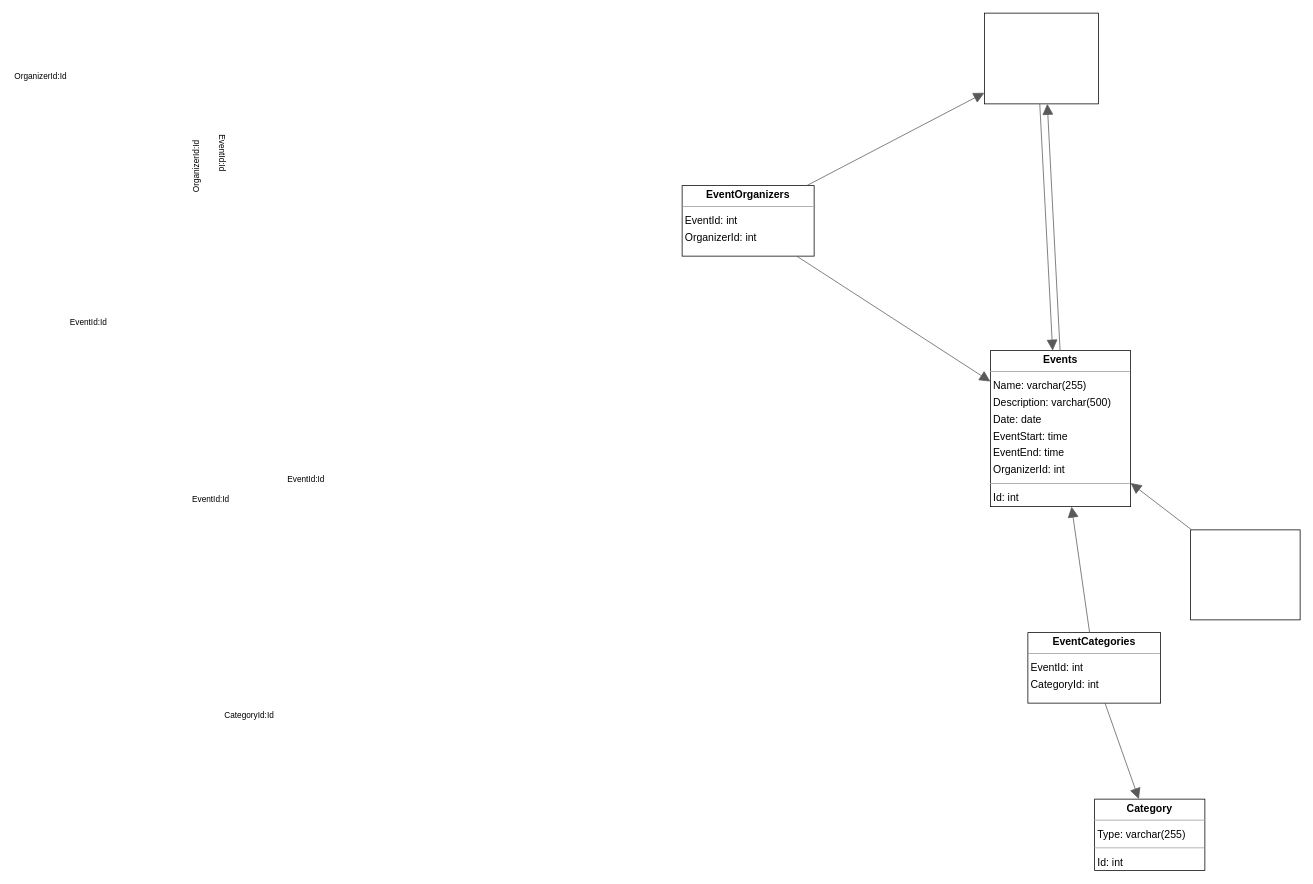
The diagram is 1313 pixels wide and 884 high, and some of its shapes have lost their labels. Each missing label, with the box of its shape:
Events_Meta Created: datetime Modified: datetime EventId: int: (1190, 529, 1300, 620)
Organizer Name: varchar(255) EventId: int Id: int: (984, 12, 1098, 104)
